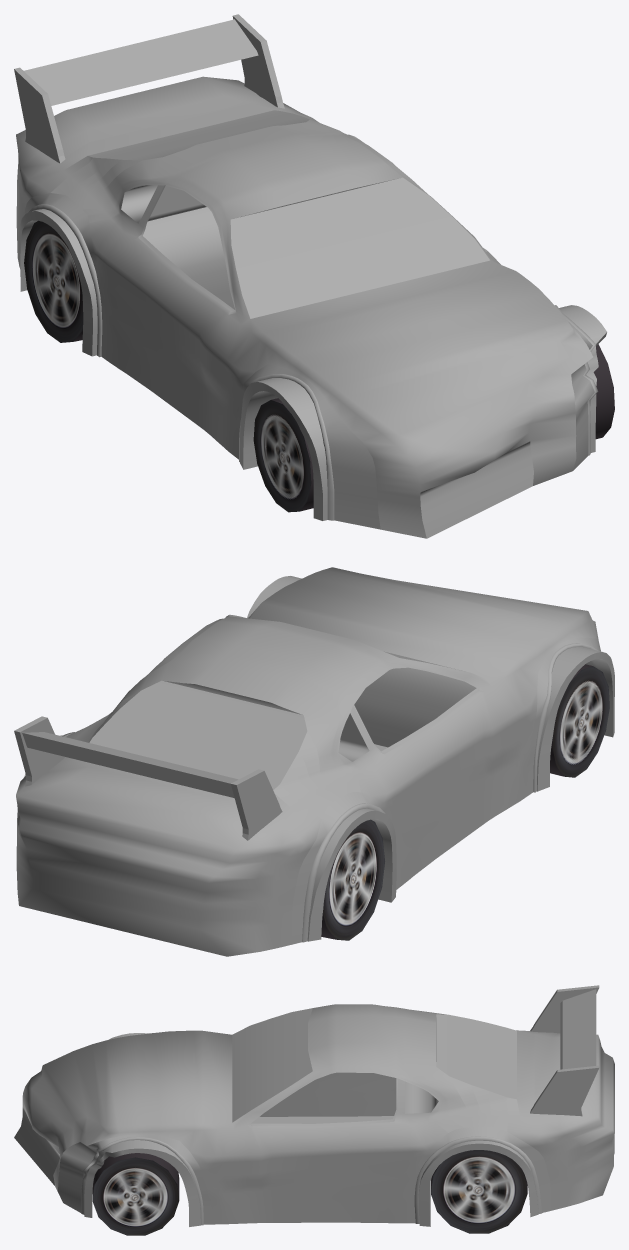
The model's file is Car_Test_Model_06_deformation02_Mike.fbx.
The picture shows the model from 3 angles, top to bottom: view 1: azimuth 30°, elevation 25°; view 2: azimuth 150°, elevation 25°; view 3: azimuth 270°, elevation 25°; orthographic projection. The views are drawn at different scales.
Parts seen in each view (by area): view 1: polySurface1, backLeftWheel1, frontRightWheel, frontLeftWheel; view 2: polySurface1, backLeftWheel1, frontRightWheel; view 3: polySurface1, backLeftWheel, frontLeftWheel.
Part boxes in pixels (x1,y1,x2,y2): polySurface1: (14, 14, 606, 538); backLeftWheel1: (24, 220, 83, 342); frontRightWheel: (253, 398, 313, 512); frontLeftWheel: (593, 344, 614, 439); polySurface1: (14, 567, 614, 956); backLeftWheel1: (321, 819, 384, 940); frontRightWheel: (550, 664, 609, 777); polySurface1: (14, 985, 614, 1226); backLeftWheel: (431, 1150, 527, 1233); frontLeftWheel: (92, 1153, 179, 1235).
Size of the model in its own units: 12.33 by 7.62 by 27.05.
